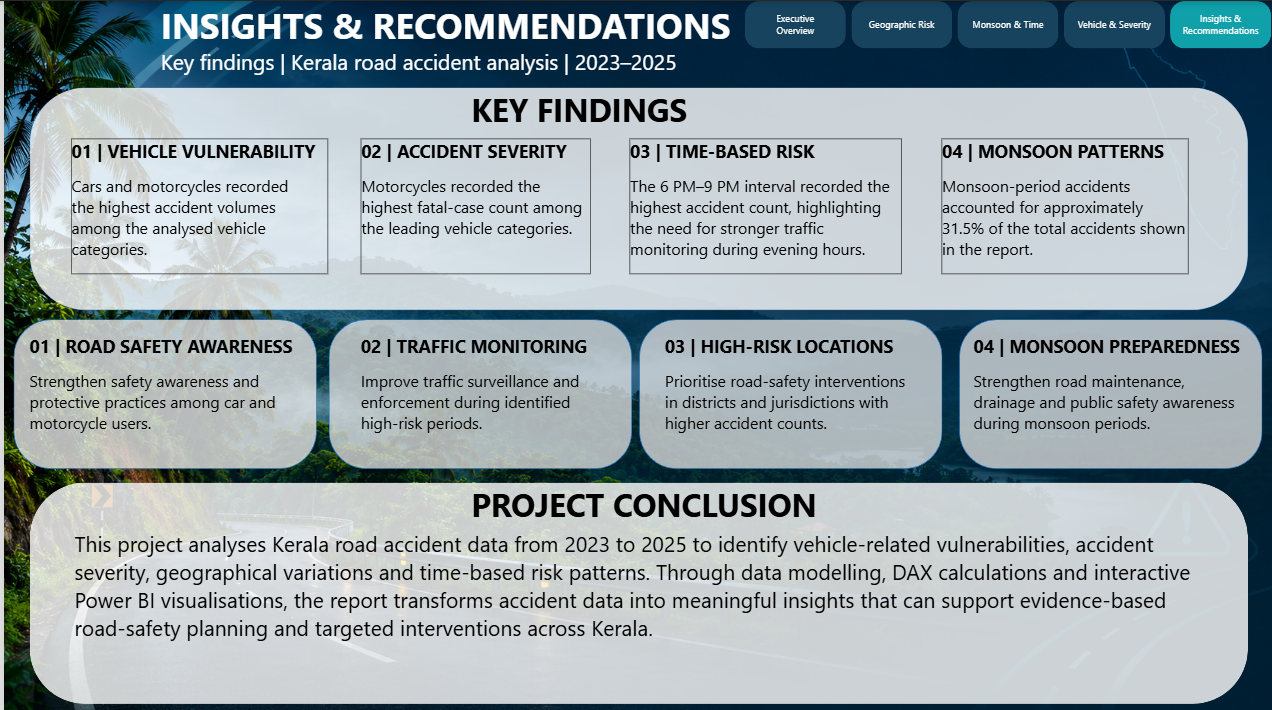

Layout of this report page (visuals, bound fields, positions):
{"tool":"powerbi","page":{"name":"Insights & Recommendations","canvas":[1920,1080],"ordinal":4},"visuals":[{"type":"textbox","box":[237,0,883.8,113.1],"z":0},{"type":"shape","box":[14.9,482.5,459,226.3],"z":1000},{"type":"shape","box":[491,482.5,459,226.3],"z":2000},{"type":"shape","box":[960.7,482.5,459,226.3],"z":3000},{"type":"shape","box":[1445.2,482.5,459,226.3],"z":4000},{"type":"shape","box":[38.4,130.2,1844.5,337.3],"z":5000},{"type":"shape","box":[38.4,730.1,1844.5,335.2],"z":6000},{"type":"textbox","box":[706.6,130.2,333,68.3],"z":7000},{"type":"textbox","box":[540.1,209.2,348,204.9],"z":8000},{"type":"textbox","box":[102.5,209.2,388.5,204.9],"z":9000},{"type":"textbox","box":[1419.6,209.2,373.6,204.9],"z":10000},{"type":"textbox","box":[947.8,209.2,412,204.9],"z":11000},{"type":"textbox","box":[540.1,503.8,367.2,183.6],"z":12000},{"type":"textbox","box":[1001.2,503.8,373.6,183.6],"z":13000},{"type":"textbox","box":[1468.7,503.8,414.1,183.6],"z":14000},{"type":"textbox","box":[38.4,503.8,401.3,183.6],"z":15000},{"type":"textbox","box":[706.6,730.1,546.5,68.3],"z":16000},{"type":"textbox","box":[106.7,798.4,1690.7,247.6],"z":17000},{"type":"pageNavigator","box":[1120.8,0,798.4,72.6],"z":18000}]}

Visuals, with their boxes in screenshot pixels (x1, y1, x2, y2), scaled from the page's 1920x1080 canvas onto the 1272x710 screenshot:
textbox: l=157, t=0, r=743, b=74
shape: l=10, t=317, r=314, b=466
shape: l=325, t=317, r=629, b=466
shape: l=636, t=317, r=941, b=466
shape: l=957, t=317, r=1262, b=466
shape: l=25, t=86, r=1247, b=307
shape: l=25, t=480, r=1247, b=700
textbox: l=468, t=86, r=689, b=130
textbox: l=358, t=138, r=588, b=272
textbox: l=68, t=138, r=325, b=272
textbox: l=940, t=138, r=1188, b=272
textbox: l=628, t=138, r=901, b=272
textbox: l=358, t=331, r=601, b=452
textbox: l=663, t=331, r=911, b=452
textbox: l=973, t=331, r=1247, b=452
textbox: l=25, t=331, r=291, b=452
textbox: l=468, t=480, r=830, b=525
textbox: l=71, t=525, r=1191, b=688
pageNavigator: l=743, t=0, r=1271, b=48
